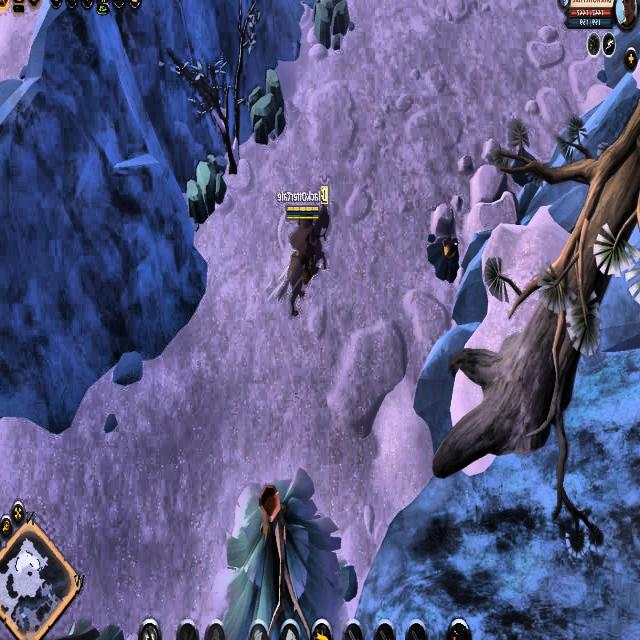copperore: (427, 229, 464, 280)
sandstone: (185, 146, 227, 224), (247, 67, 287, 144), (311, 0, 356, 46)
